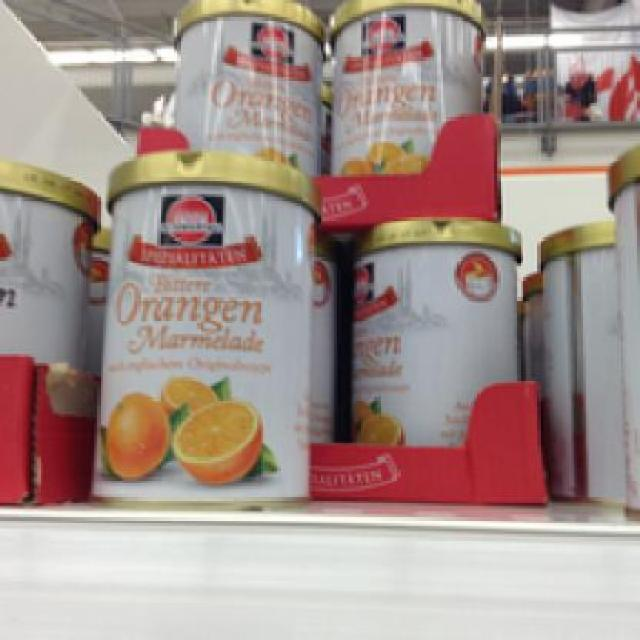Jam: (92, 146, 314, 508), (346, 214, 523, 446), (326, 0, 484, 172), (165, 0, 318, 169)
